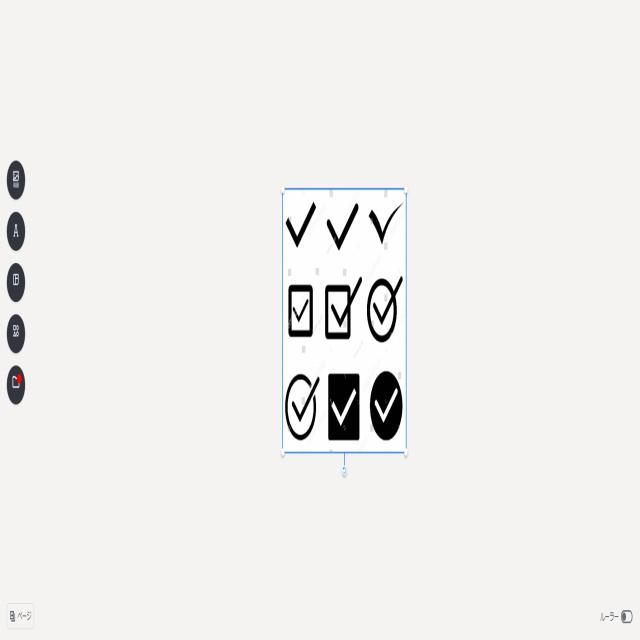checkbox: (321, 273, 364, 342), (366, 270, 402, 344), (326, 370, 361, 445), (284, 371, 320, 443), (369, 369, 404, 440), (287, 280, 316, 340)
